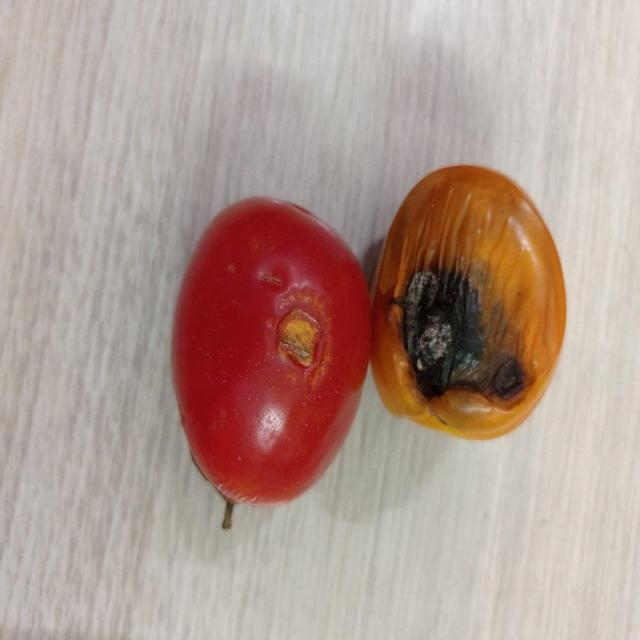Rotten: (176, 195, 368, 508), (372, 163, 566, 440)
